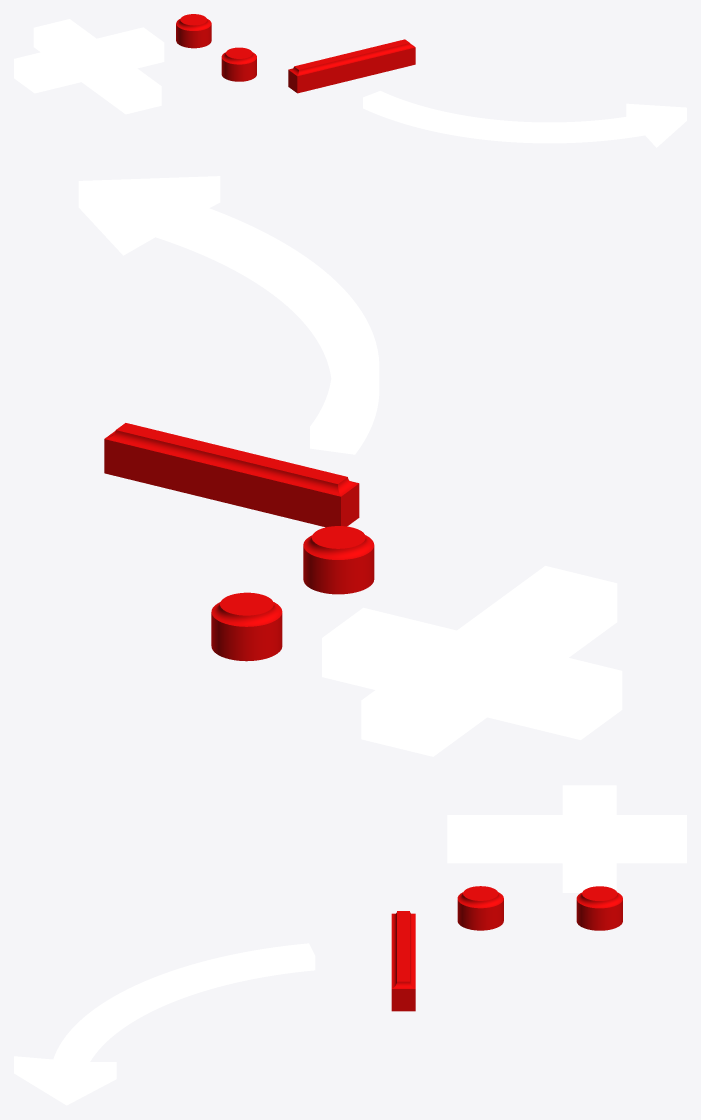
The picture shows the model from 3 angles, top to bottom: view 1: azimuth 30°, elevation 25°; view 2: azimuth 150°, elevation 25°; view 3: azimuth 270°, elevation 25°; orthographic projection. The views are drawn at different scales.
Visible parts, largest first — view 1: Box001, Box002, TextPlus003; view 2: Box001, Box002, TextPlus003; view 3: Box001, Box002, TextPlus003.
Boxes of the visible parts, x1,y1,x2,y2 form: Box001: [14, 19, 164, 114]; Box002: [363, 91, 686, 147]; TextPlus003: [176, 14, 415, 93]; Box001: [322, 566, 622, 756]; Box002: [78, 176, 379, 454]; TextPlus003: [104, 423, 374, 661]; Box001: [447, 785, 686, 892]; Box002: [14, 943, 315, 1105]; TextPlus003: [391, 886, 622, 1011].
Size of the model in its own units: 0.8993 by 0.0405 by 0.8704.
